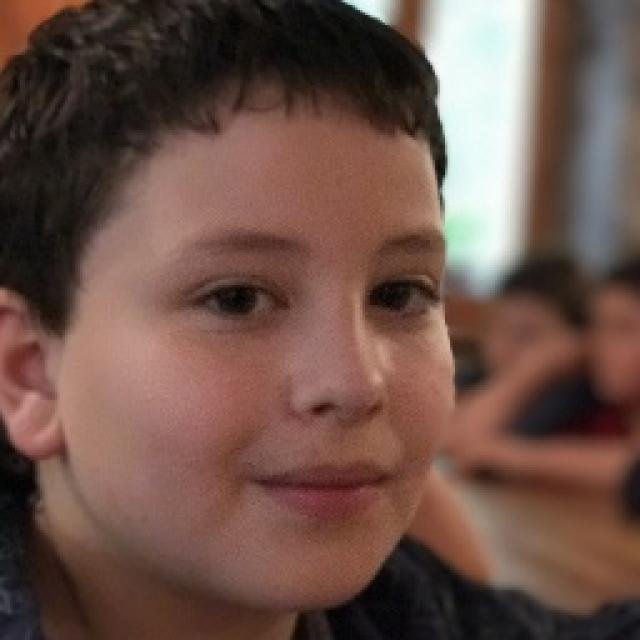earlobe: (0, 414, 67, 460)
eye: (194, 282, 284, 321), (371, 279, 438, 314)
nose: (296, 402, 388, 446)
wholeear: (0, 286, 68, 459)
